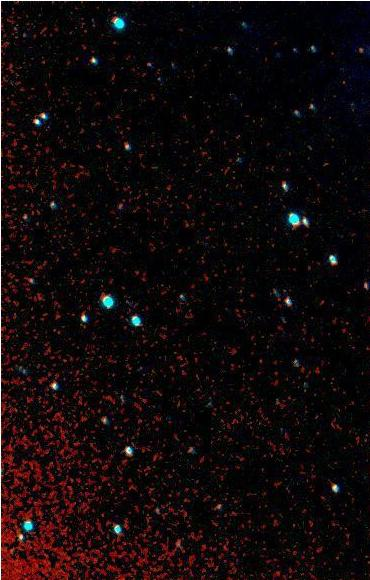star: (342, 35, 370, 65)
